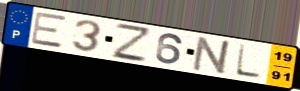3: (69, 19, 103, 54)
6: (154, 32, 185, 66)
E: (30, 11, 68, 50)
L: (233, 42, 263, 81)
N: (190, 35, 236, 77)
Z: (110, 21, 151, 64)
